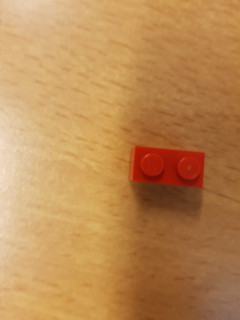1x2 red: (130, 144, 205, 190)
